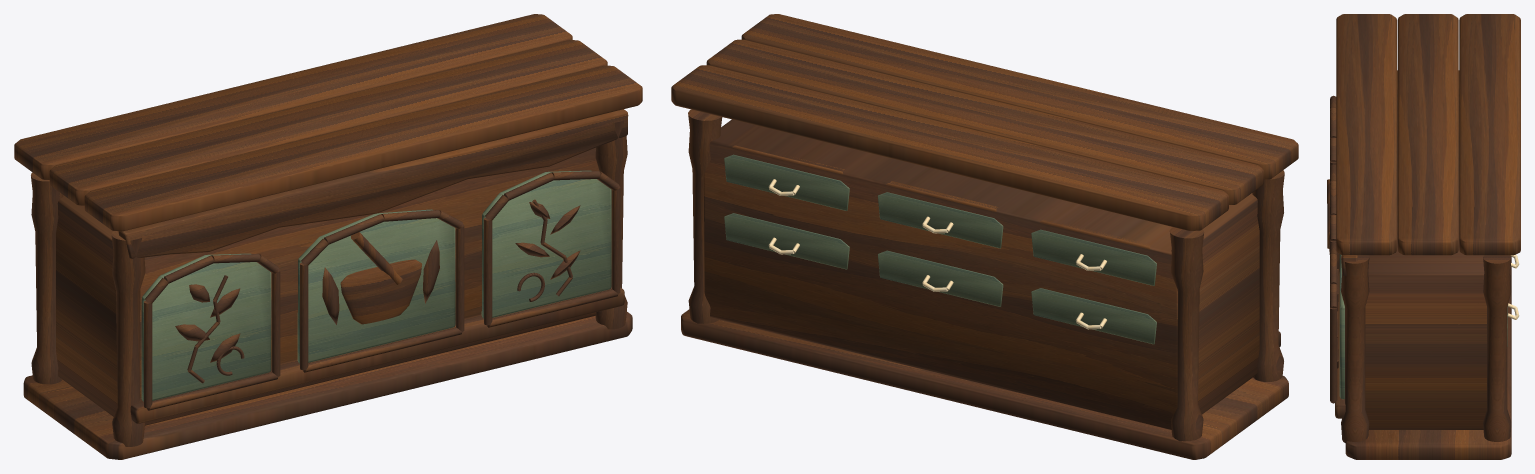
File: CM_C05_SalesCounter.fbx
3 renders of one model, left to right at view 1: azimuth 30°, elevation 25°; view 2: azimuth 150°, elevation 25°; view 3: azimuth 270°, elevation 25°, orthographic. The views are drawn at different scales.
Parts seen in each view (by area): view 1: CM_C05_SalesCounter; view 2: CM_C05_SalesCounter; view 3: CM_C05_SalesCounter.
Boxes of the visible parts, x1,y1,x2,y2 form: CM_C05_SalesCounter: (14,14,642,459); CM_C05_SalesCounter: (671,14,1298,459); CM_C05_SalesCounter: (1327,14,1520,459).
Bounding box in the file's own units: 2.28 × 1.03 × 0.819.
